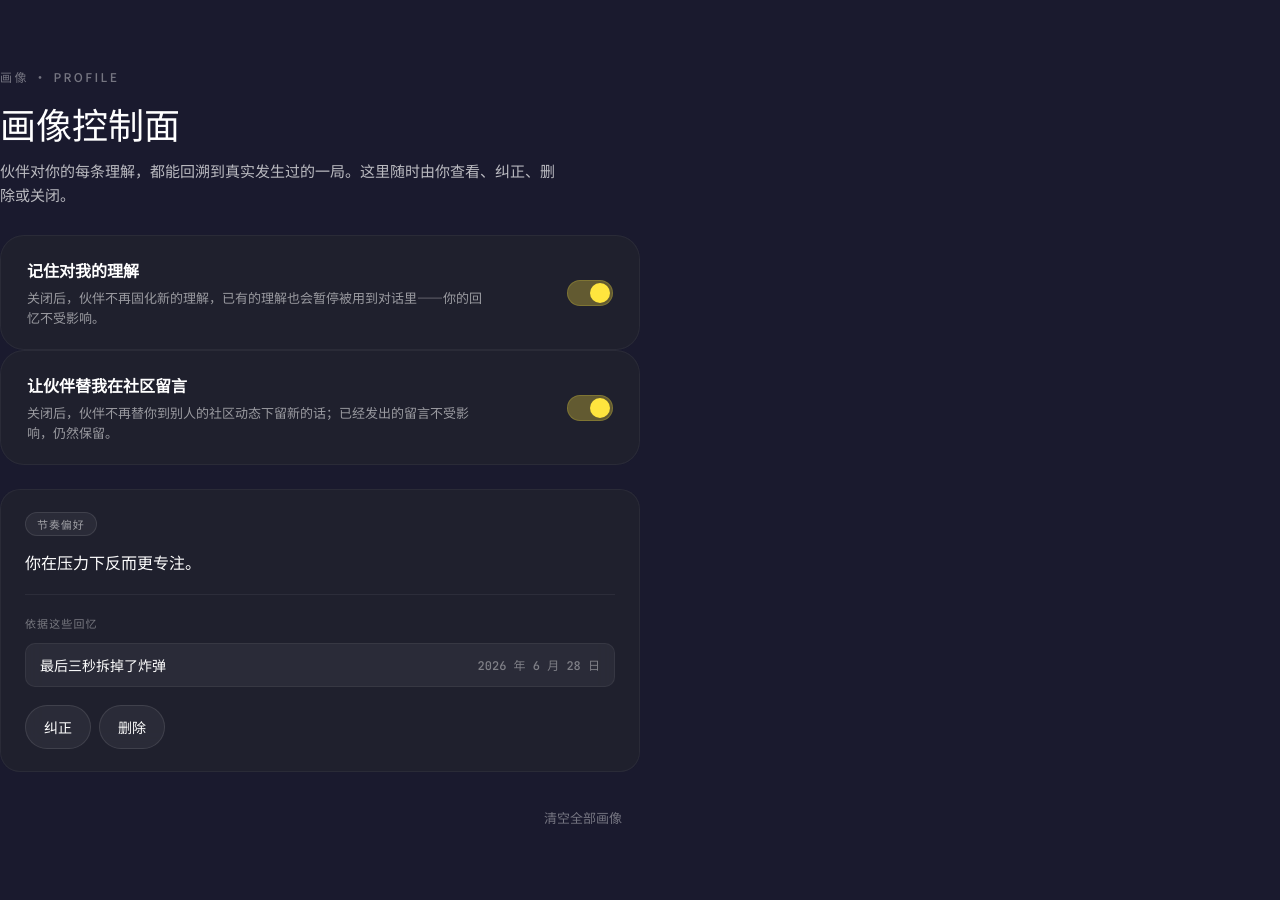
Test case: ProfileControlPage /me/profile › clears every claim via 清空全部画像
This screenshot has width=1280, height=900.
Step 1. Click the button "清空全部画像" → (583, 818), box [526,796,640,840]
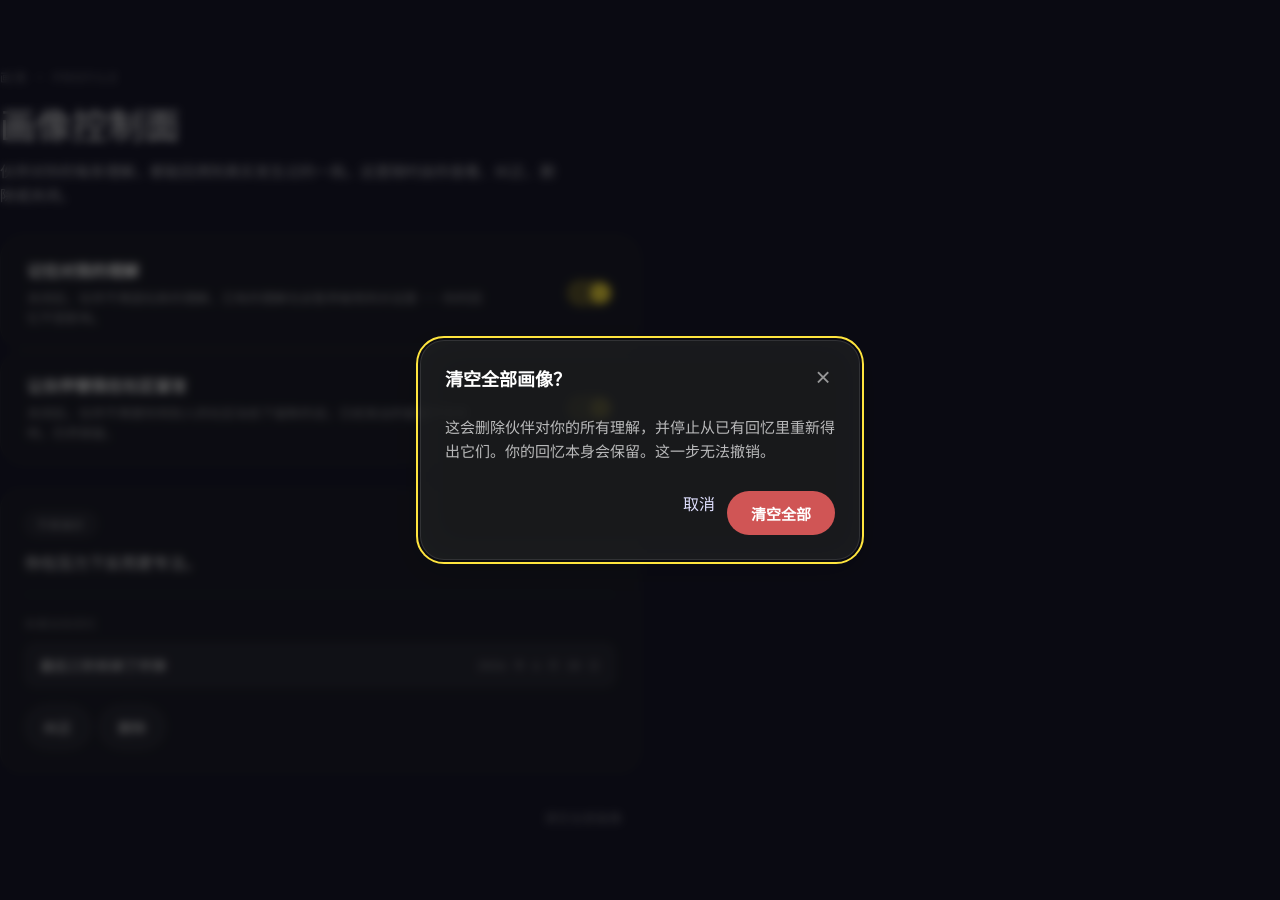
Step 2. Click the button "清空全部" → (781, 513), box [727,491,835,535]
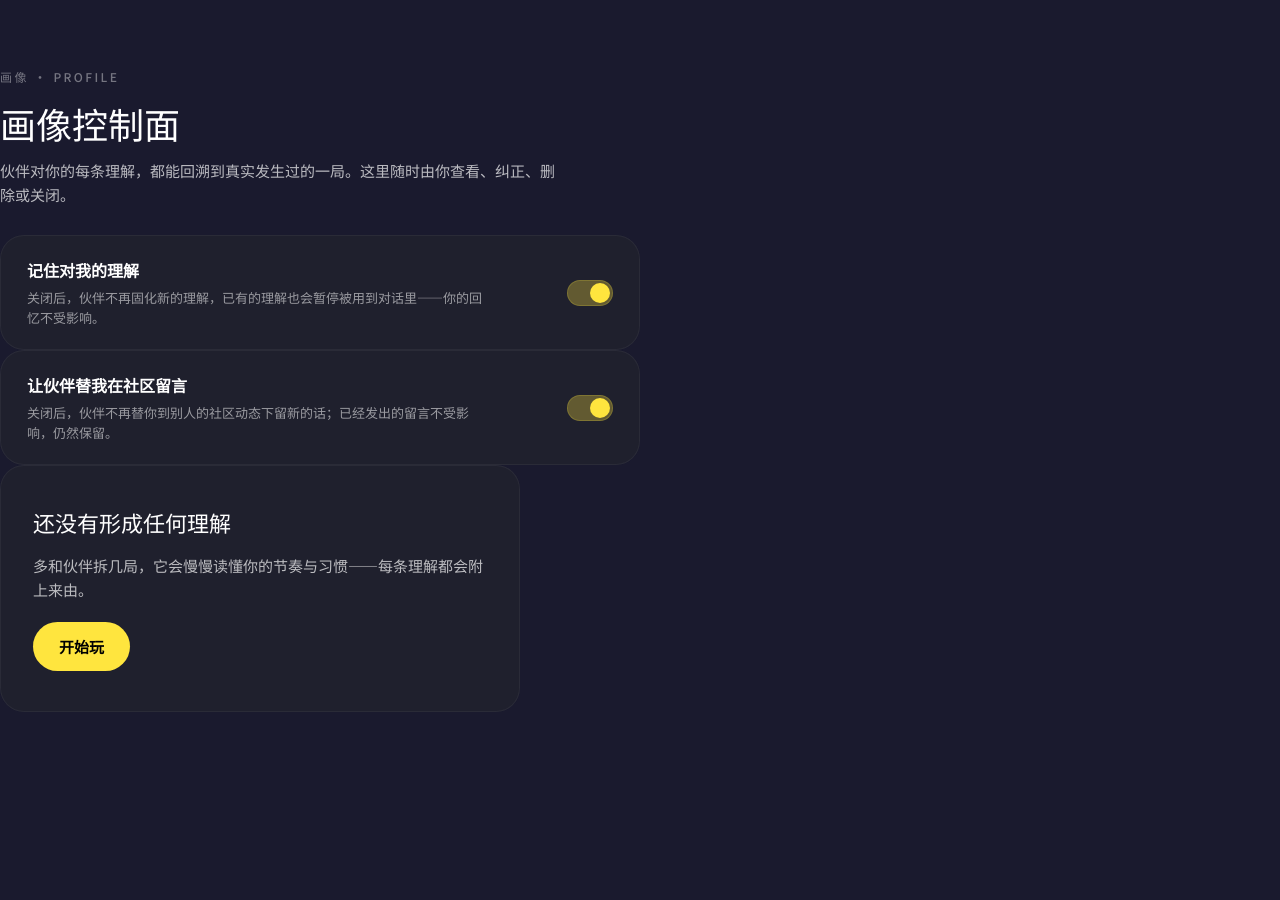
Expected: the heading "还没有形成任何理解" is shown, [33,506,231,538]
